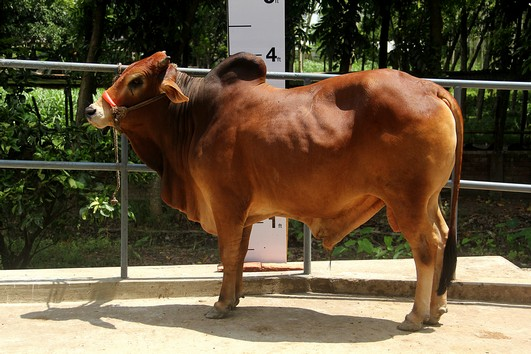cow: (78, 41, 465, 334)
